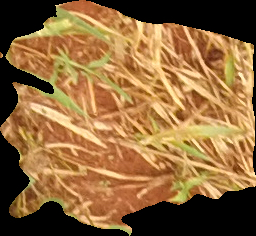soil: (4, 3, 251, 232)
